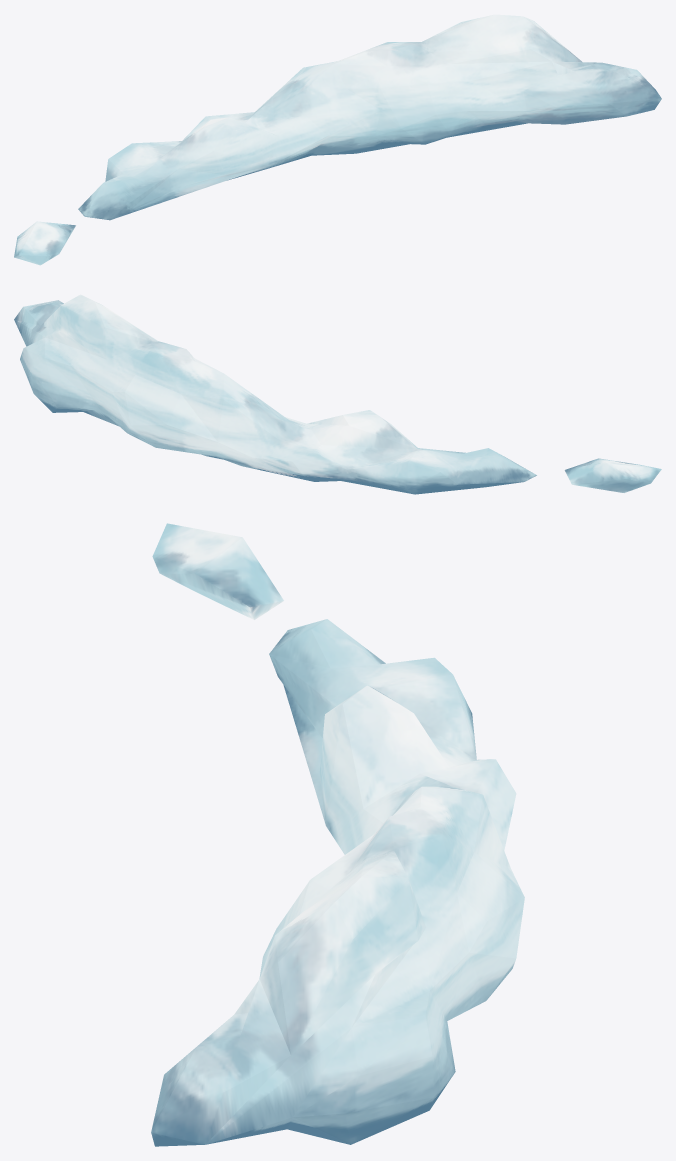
Rendered from SM_Prop_Cloud_01.fbx.
The picture shows the model from 3 angles, top to bottom: view 1: azimuth 30°, elevation 25°; view 2: azimuth 150°, elevation 25°; view 3: azimuth 270°, elevation 25°; orthographic projection. The views are drawn at different scales.
Visible parts, largest first — view 1: SM_Prop_Cloud_01; view 2: SM_Prop_Cloud_01; view 3: SM_Prop_Cloud_01.
Boxes of the visible parts, bbox=[...] form: SM_Prop_Cloud_01: bbox=[14, 14, 661, 265]; SM_Prop_Cloud_01: bbox=[14, 294, 661, 494]; SM_Prop_Cloud_01: bbox=[151, 523, 524, 1146].
Bounding box in the file's own units: 74401 × 12432 × 18864.
